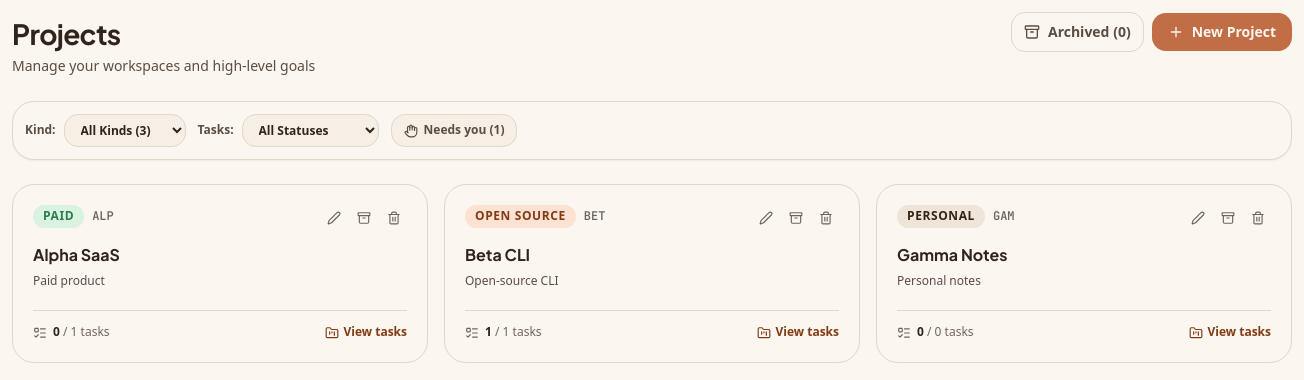
Test: ProjectsView filtering and detail modal › filters projects by kind, task status, and Needs you
Check: the button "Alpha SaaS" is shown, box [33,243,120,268]
Check: the button "Beta CLI" is shown, box [465,243,530,268]
// Filter by Kind: open_source
Select "Open Source" in the dropdown labelled "Kind:": (124, 131) [64,114,186,147]
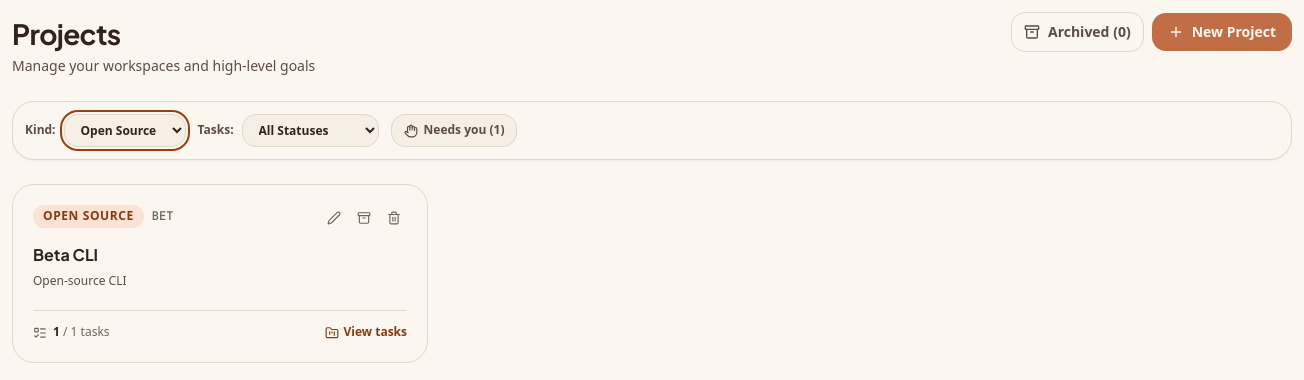
Check: the button "Beta CLI" is shown, box [33,243,98,268]
Check: the button "Alpha SaaS" is gone
Check: the button "Gamma Notes" is gone
// Reset Kind and filter by Tasks: No tasks
Select "All Kinds (3)" in the dropdown labelled "Kind:": (124, 131) [64,114,186,147]
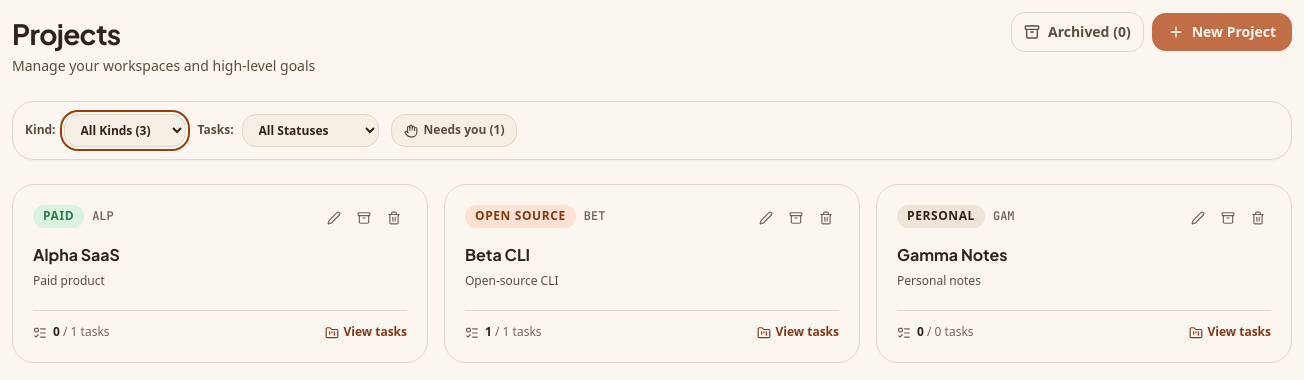
Select "No tasks" in the dropdown labelled "Tasks:": (310, 131) [242,114,379,147]
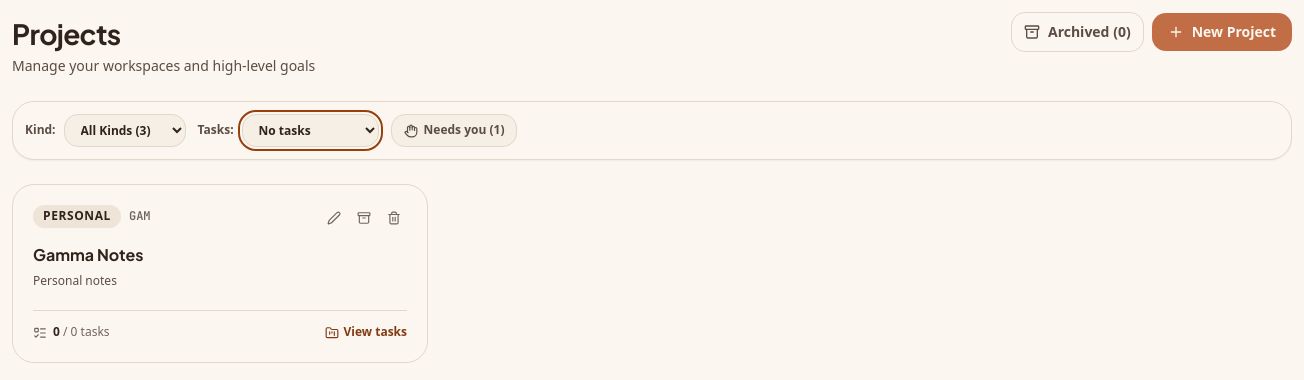
Check: the button "Gamma Notes" is shown, box [33,243,144,268]
Check: the button "Alpha SaaS" is gone
// Filter by Needs you
Select "All Statuses" in the dropdown labelled "Tasks:": (310, 131) [242,114,379,147]
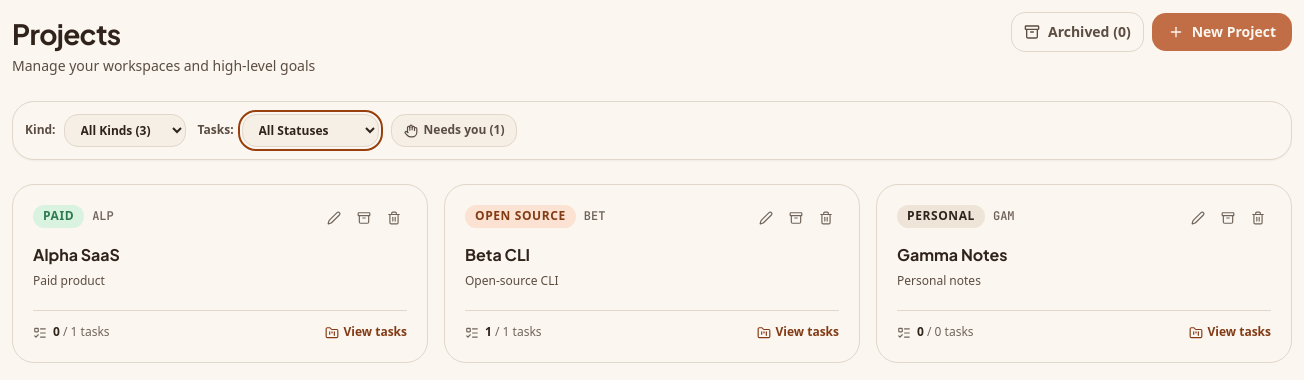
Click the button "Needs you (1)": (454, 131) [391,114,518,147]
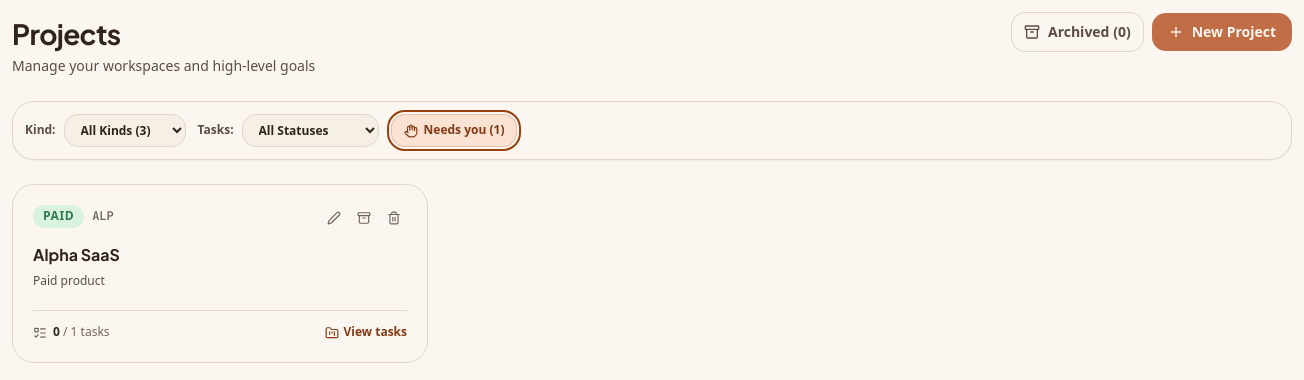
Check: the button "Alpha SaaS" is shown, box [33,243,120,268]
Check: the button "Beta CLI" is gone
